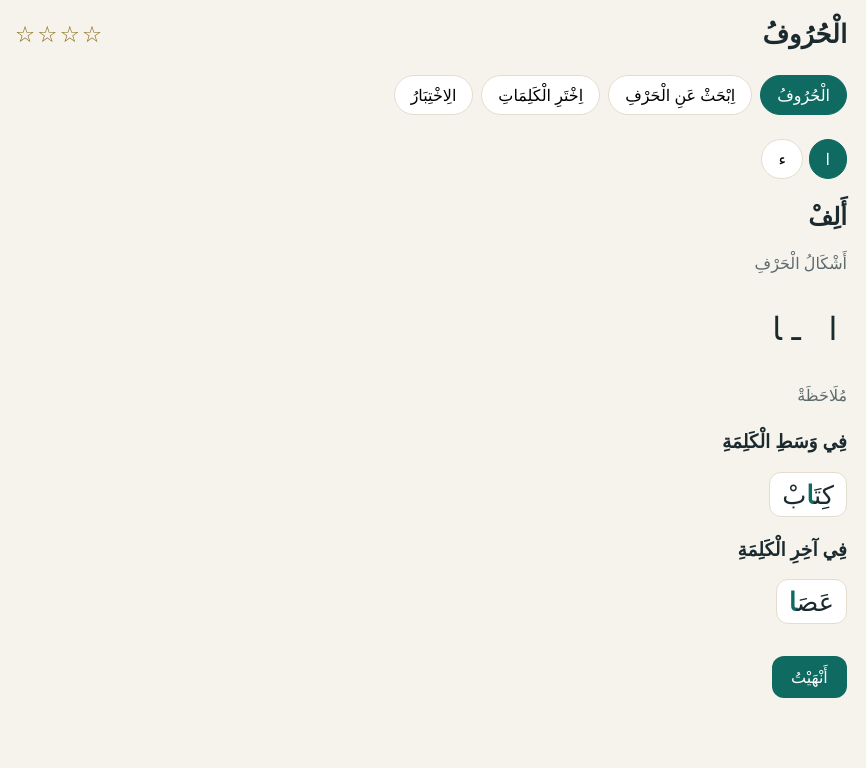
the Arabic letters lesson page › find the letter: only the piece that IS the letter counts
Click the button "ء".
click(782, 159)  # box [761,139,803,179]
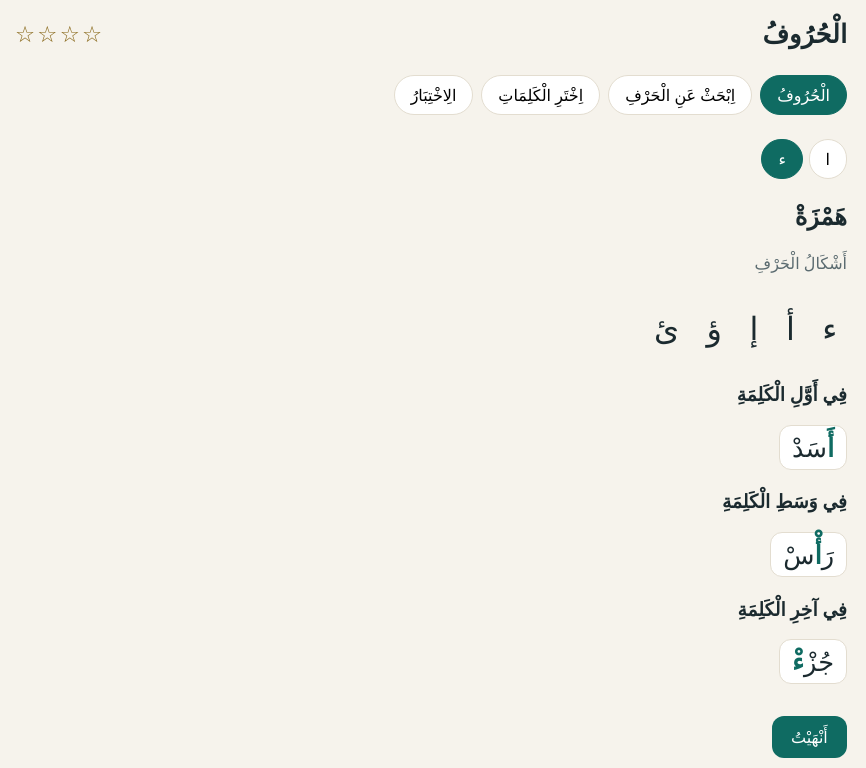
Click the button "اِبْحَثْ عَنِ الْحَرْفِ".
click(680, 95)  # box [608,75,752,115]
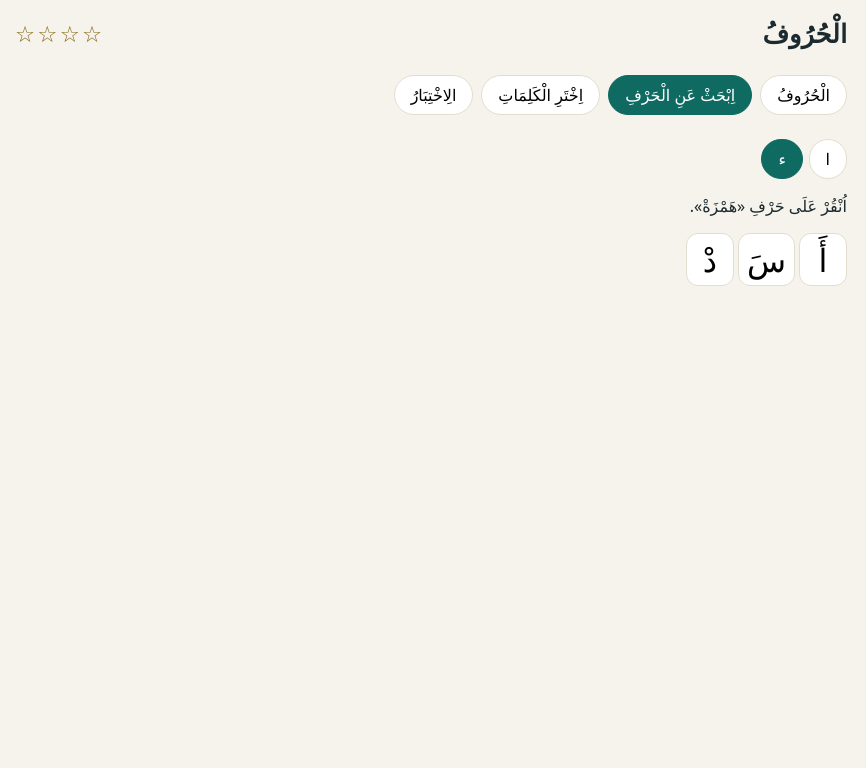
Click the button "سَ".
click(766, 260)  # box [738,233,795,286]
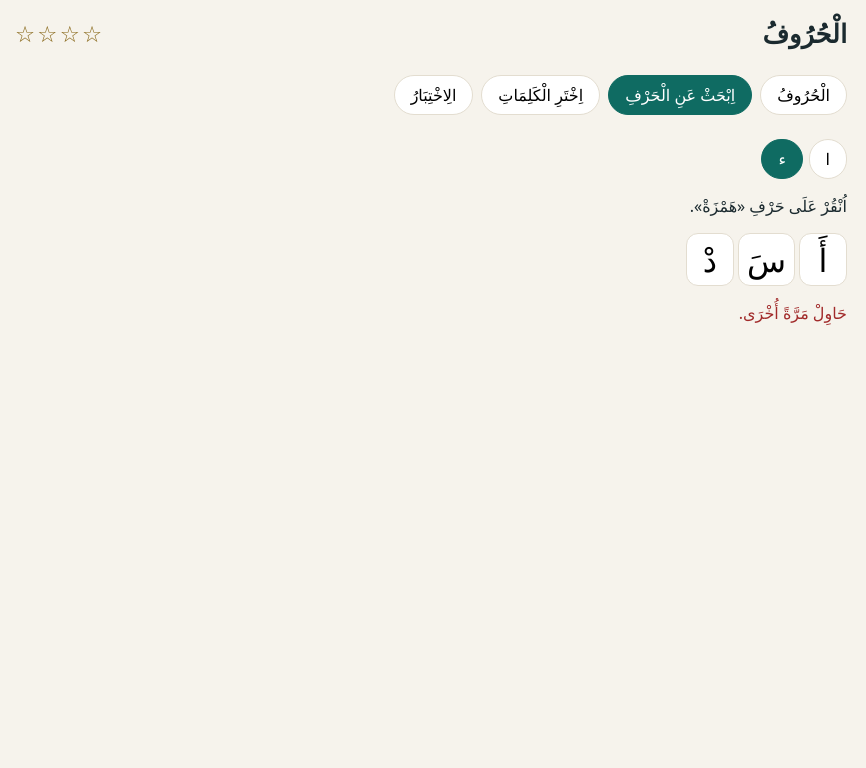
Result: the message reads "حَاوِلْ مَرَّةً أُخْرَى." at [739,302,847,324]
Click the button "أَ".
click(823, 260)  # box [799,233,847,286]
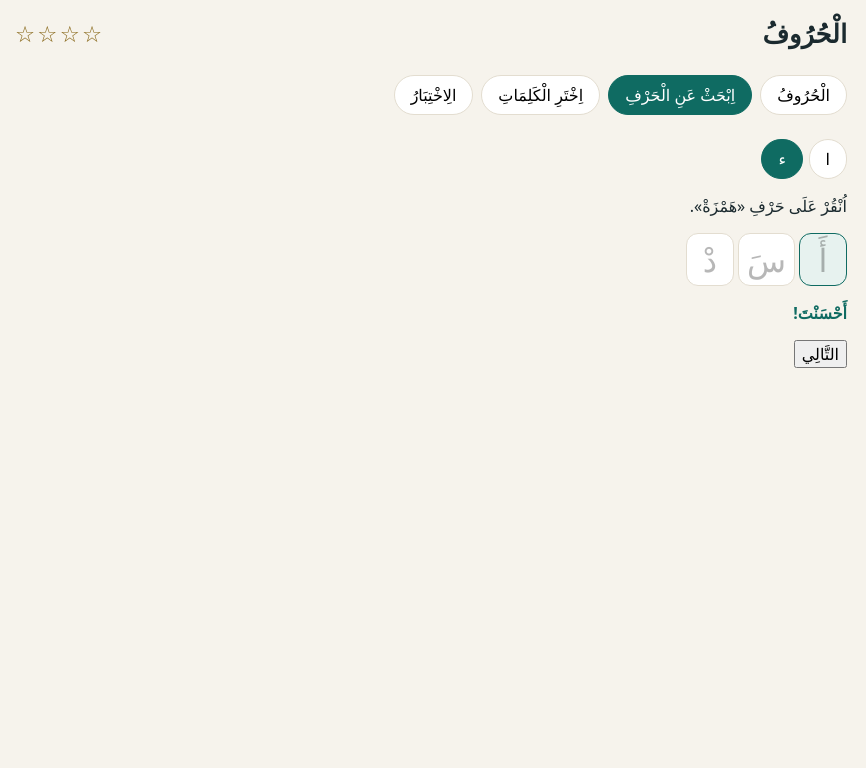
Result: the message reads "أَحْسَنْتَ!" at [793,302,847,324]
